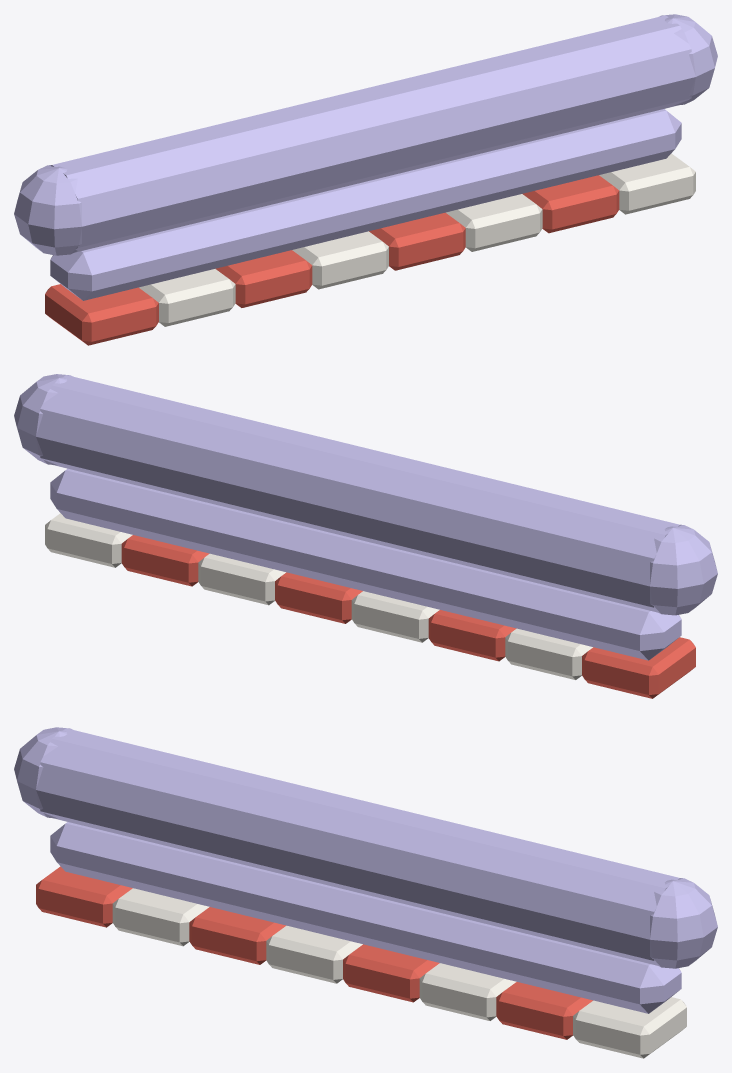
Rendered from prop_guard_rail.glb.
The picture shows the model from 3 angles, top to bottom: view 1: azimuth 30°, elevation 25°; view 2: azimuth 150°, elevation 25°; view 3: azimuth 330°, elevation 25°; orthographic projection.
Parts seen in each view (by area): view 1: prop_guard_rail; view 2: prop_guard_rail; view 3: prop_guard_rail.
Boxes of the visible parts, left/top/right/bottom form: prop_guard_rail: left=14, top=14, right=717, bottom=345; prop_guard_rail: left=14, top=374, right=717, bottom=698; prop_guard_rail: left=14, top=727, right=717, bottom=1058.
Size of the model in its own units: 4.49 by 1.01 by 0.56.
